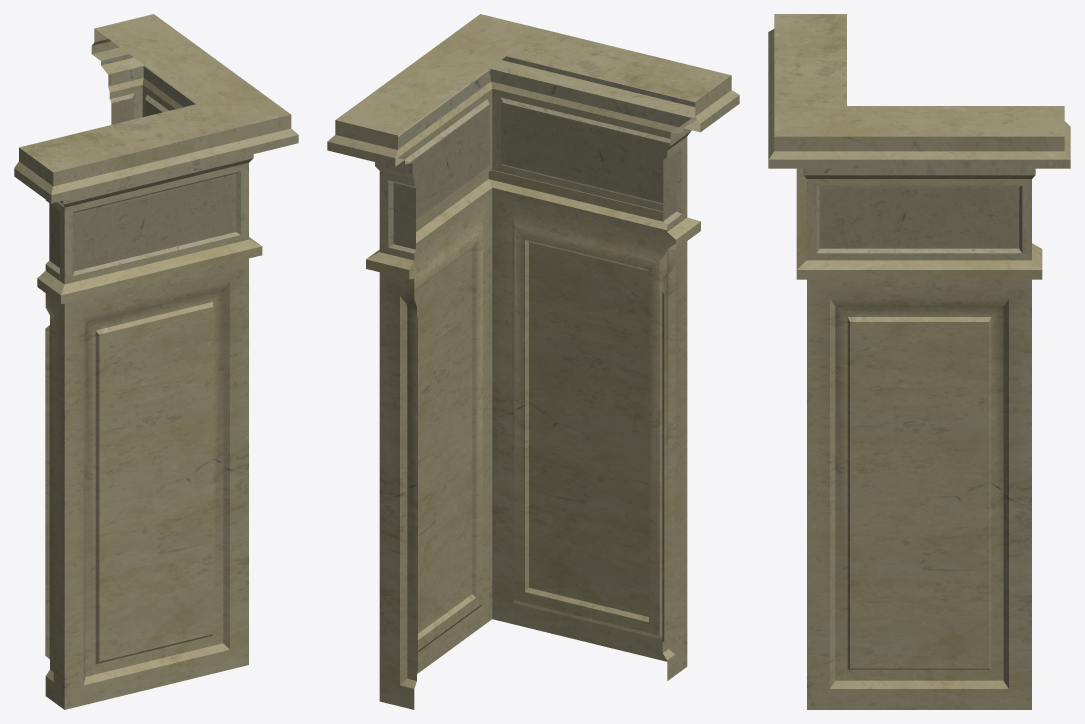
File: Marble_ColumnInset_Large_Top.gltf
3 renders of one model, left to right at view 1: azimuth 30°, elevation 25°; view 2: azimuth 150°, elevation 25°; view 3: azimuth 270°, elevation 25°, orthographic. The views are drawn at different scales.
Visible parts, largest first — view 1: Marble_ColumnInset_Large_Top; view 2: Marble_ColumnInset_Large_Top; view 3: Marble_ColumnInset_Large_Top.
Boxes of the visible parts, left/top/right/bottom form: Marble_ColumnInset_Large_Top: left=14, top=14, right=298, bottom=709; Marble_ColumnInset_Large_Top: left=327, top=14, right=739, bottom=709; Marble_ColumnInset_Large_Top: left=768, top=14, right=1070, bottom=709.
Bounding box in the file's own units: 1.87 × 4 × 1.87.
2 materials, 2 textured.
